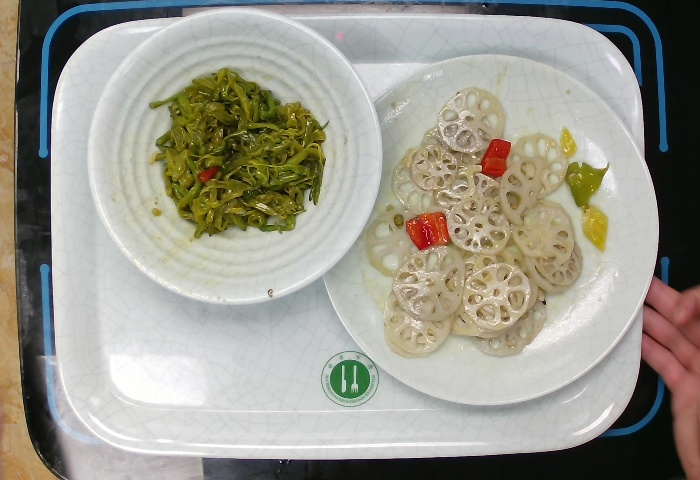JYsf-Da_Yuan_Pan: (320, 48, 665, 410)
JYsf-Xiao_Tang_Wan: (81, 3, 385, 310)
